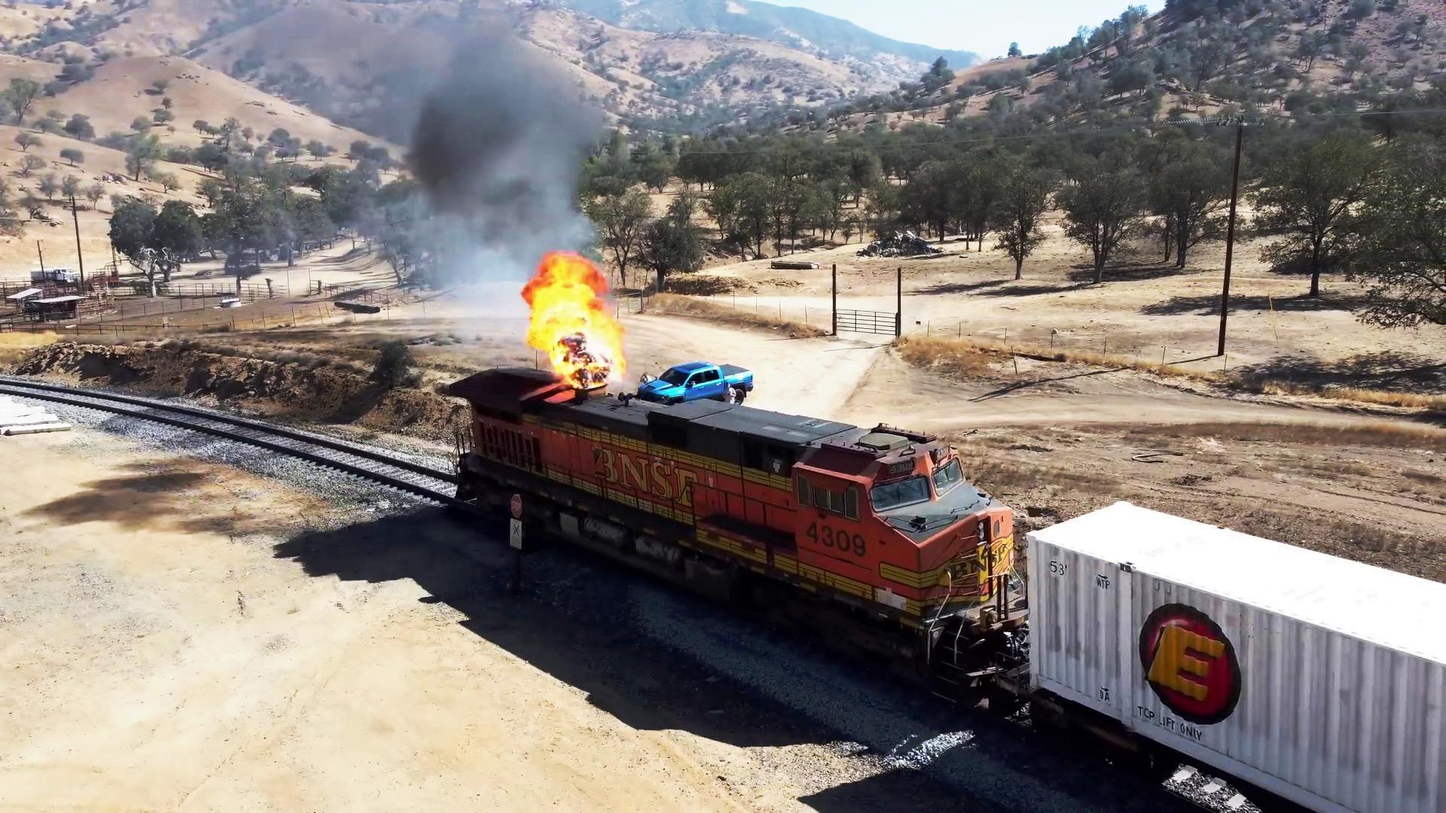fire: (524, 253, 632, 383)
smoke: (396, 49, 578, 210)
